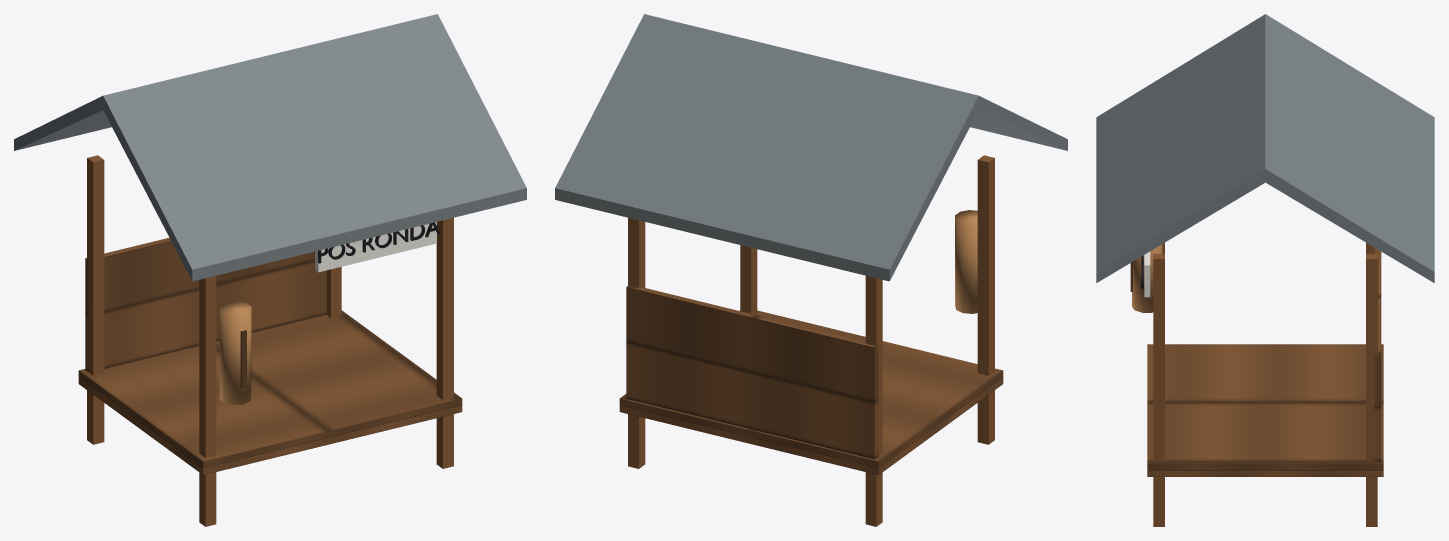
The model's file is prop_pos_ronda.glb.
3 views of the same model, side by side, from view 1: azimuth 30°, elevation 25°; view 2: azimuth 150°, elevation 25°; view 3: azimuth 270°, elevation 25° (orthographic). The views are drawn at different scales.
Visible parts, largest first — view 1: pos_ronda; view 2: pos_ronda; view 3: pos_ronda.
Part boxes in pixels (left/top/right/bottom): pos_ronda: left=14, top=14, right=526, bottom=526; pos_ronda: left=555, top=14, right=1067, bottom=526; pos_ronda: left=1096, top=14, right=1434, bottom=526.
Bounding box in the file's own units: 3.1 × 3.53 × 2.86.
Materials: 7 (2 with a texture image).
